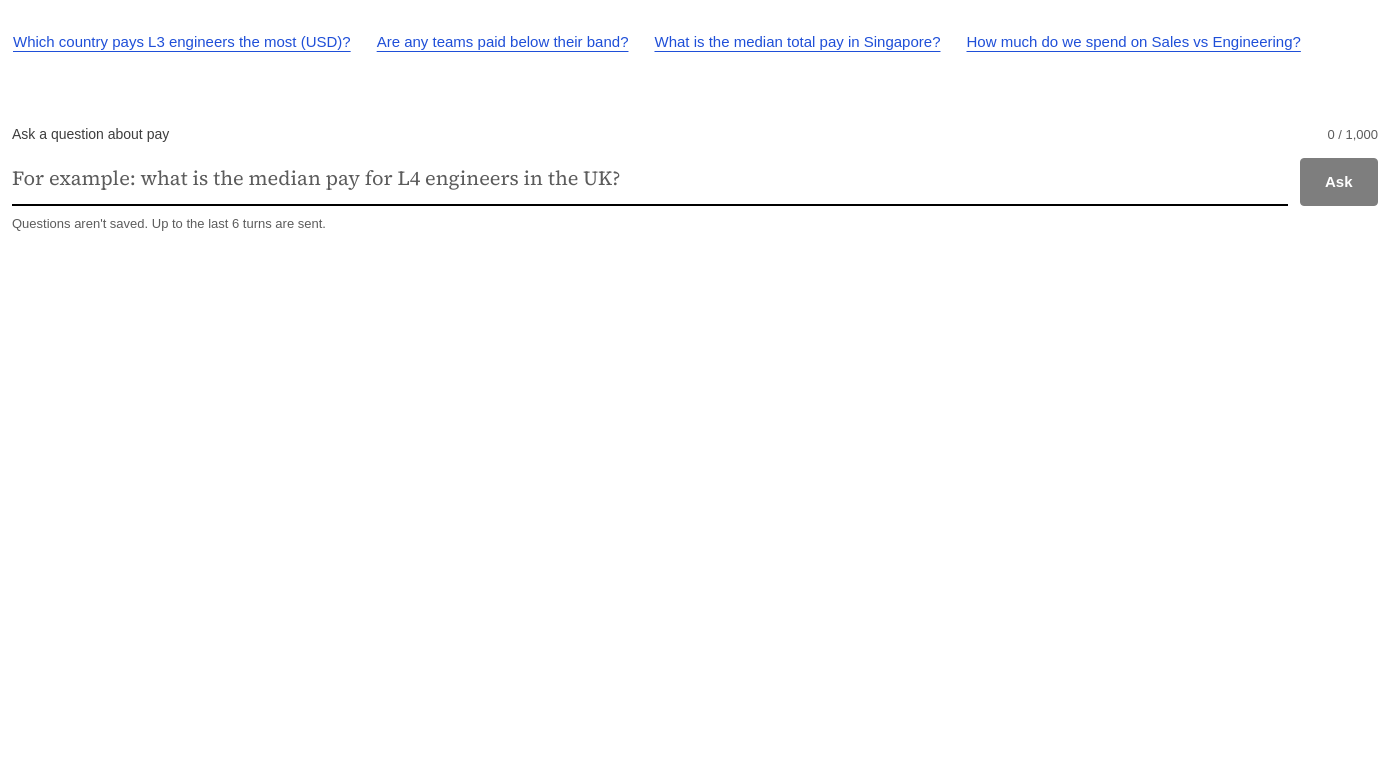
Scenario: AskChat › renders the answer with its figures, caveats and a link to the dashboard
Clear the text box labelled "Ask a question about pay". click: (650, 179)
box: [12,152,1288,206]
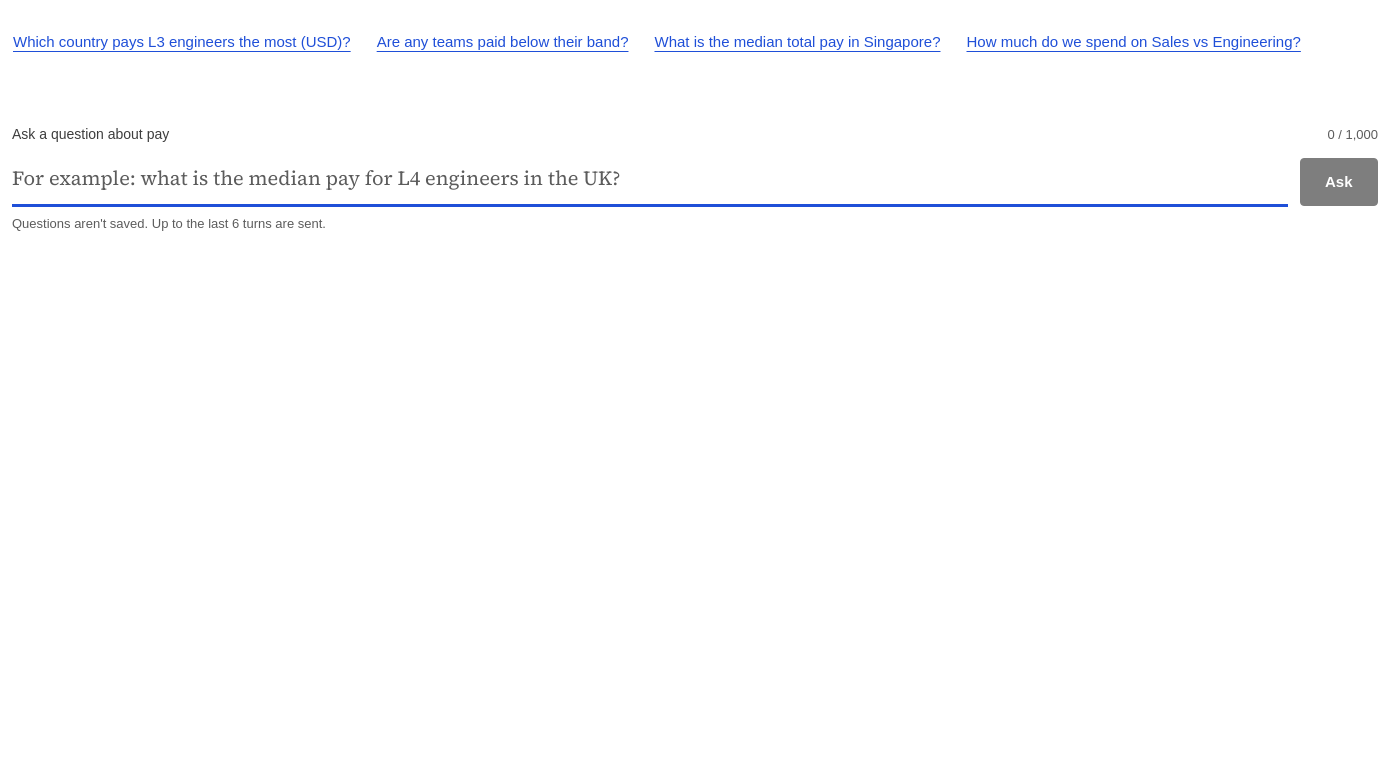
Type "Are we underpaying anyone in Germany?" into the text box labelled "Ask a question about pay". click: (650, 180)
box: [12,152,1288,207]
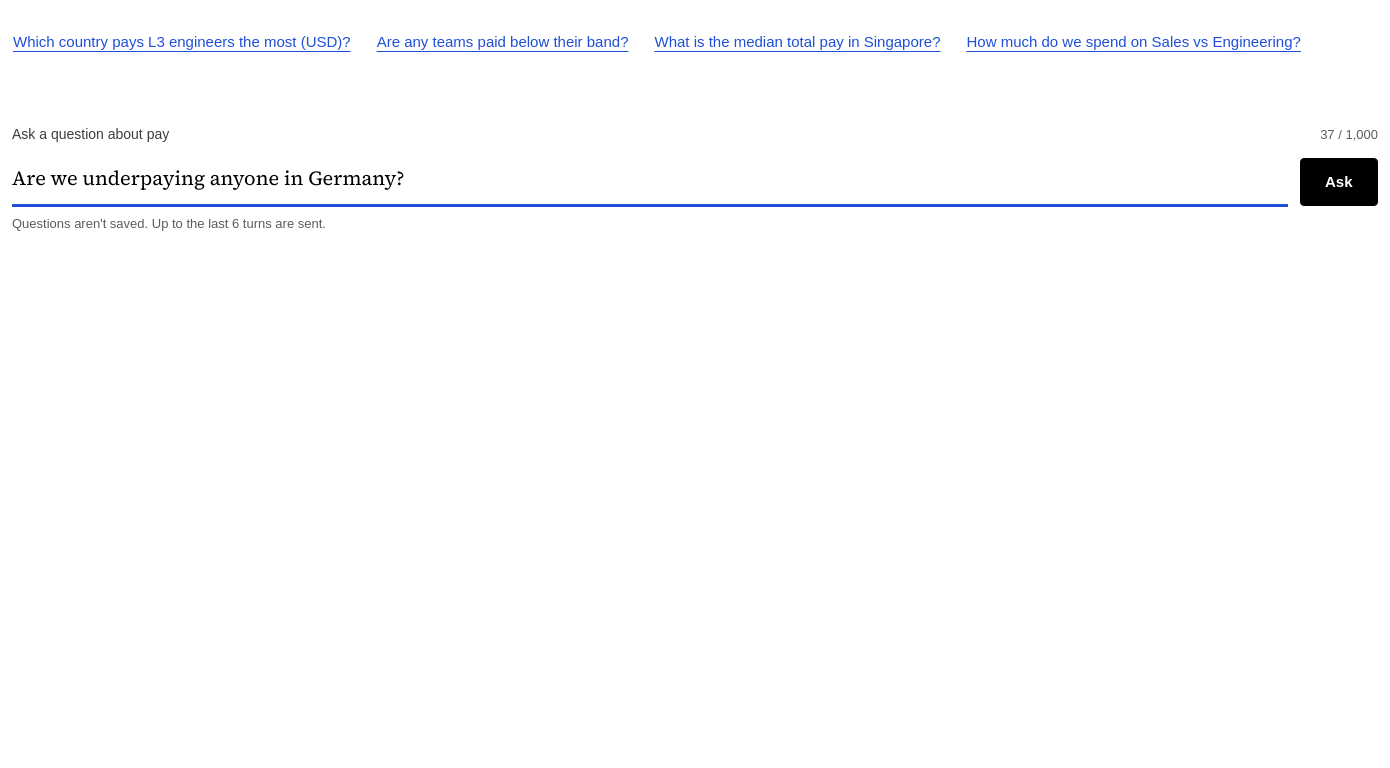
Click the button "Ask". click: (1339, 182)
box: [1300,158,1378,206]
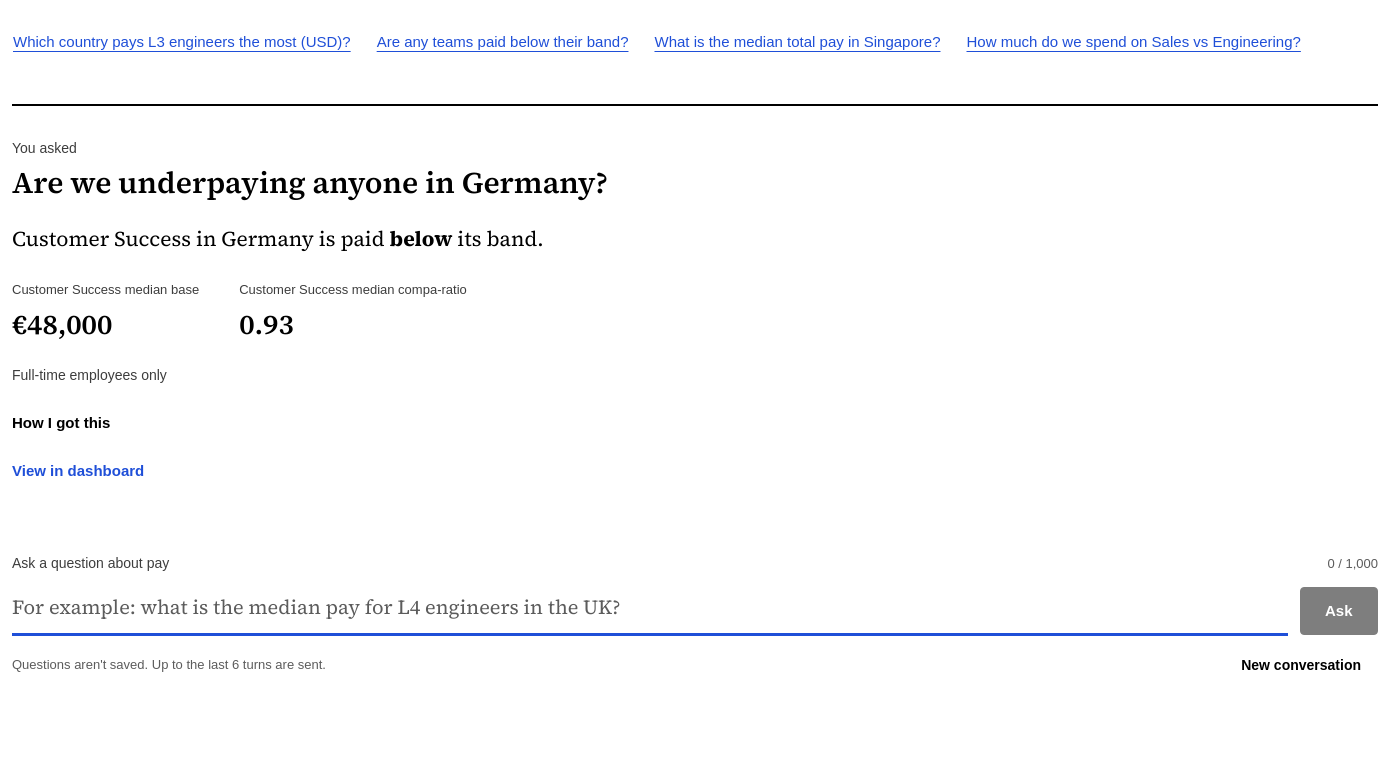
Check: the text "€48,000" is shown, box [12,305,112,343]
Check: the text "0.93" is shown, box [239,305,294,343]
Check: the list item "Full-time employees only" is shown, box [12,367,167,383]
